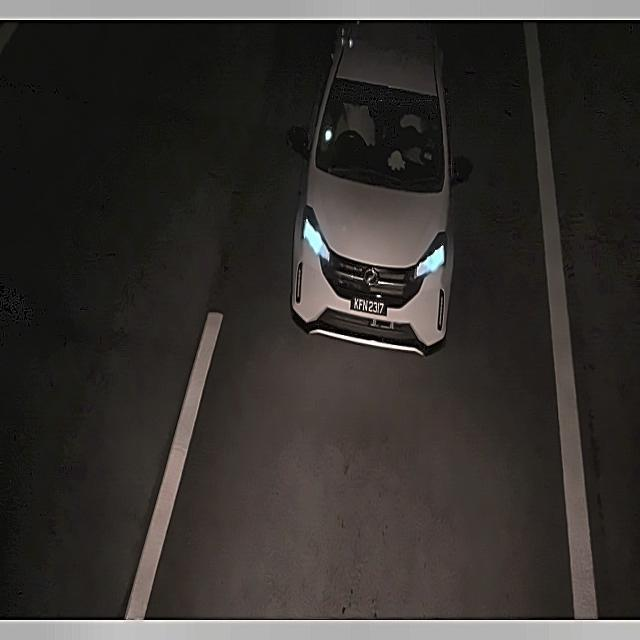car: (350, 294, 385, 320)
